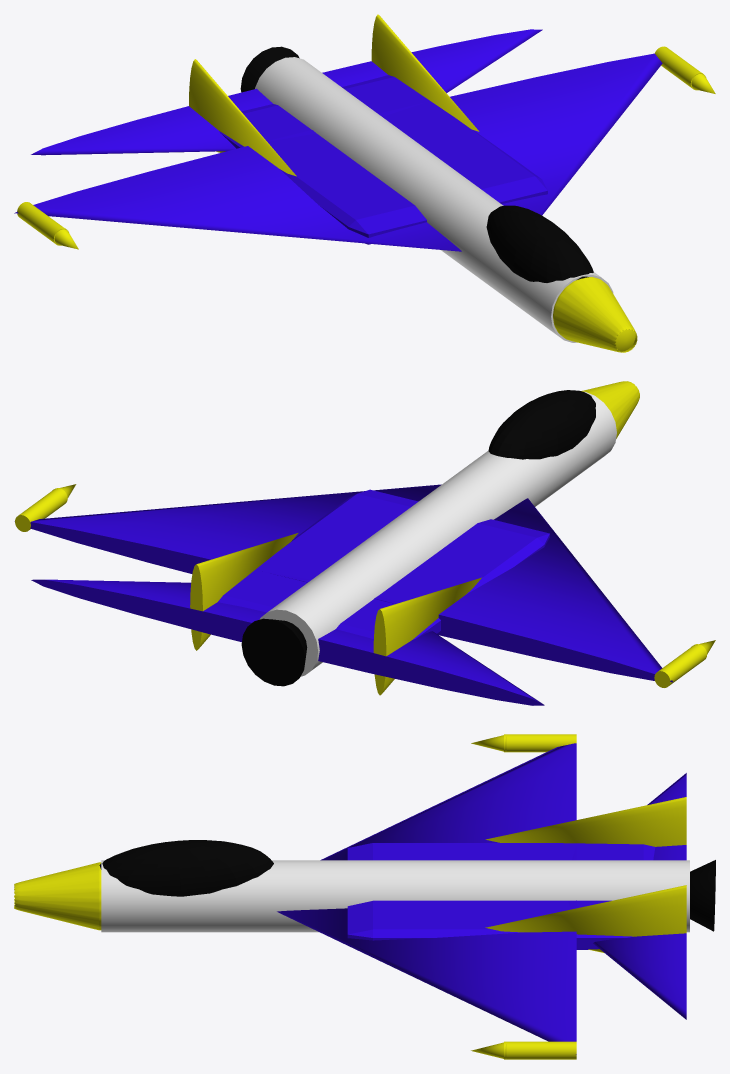
The model's file is SpaceShip.fbx.
3 renders of one model, top to bottom at view 1: azimuth 30°, elevation 25°; view 2: azimuth 150°, elevation 25°; view 3: azimuth 270°, elevation 25°, orthographic.
Visible parts, largest first — view 1: pCone2, pCylinder1, pCube1, pasted__pCone2, pSphere1, pCone1, pasted__pCone3, pCone3, pCone5, pasted__pCylinder2, pCylinder2; view 2: pCone2, pCylinder1, pCube1, pasted__pCone2, pSphere1, pCone5, pasted__pCone3, pCone3, pCone1, pasted__pCylinder2, pCylinder2; view 3: pCone2, pCylinder1, pCube1, pSphere1, pCone3, pasted__pCone2, pasted__pCone3, pCone1, pCone5, pCylinder2, pasted__pCylinder2.
Boxes of the visible parts, x1=… form: pCone2: x1=14, y1=53, x2=662, y2=251; pCylinder1: x1=255, y1=57, x2=613, y2=342; pCube1: x1=219, y1=75, x2=547, y2=244; pasted__pCone2: x1=31, y1=29, x2=542, y2=155; pSphere1: x1=486, y1=205, x2=593, y2=282; pCone1: x1=553, y1=277, x2=637, y2=352; pasted__pCone3: x1=189, y1=59, x2=296, y2=176; pCone3: x1=371, y1=14, x2=479, y2=131; pCone5: x1=240, y1=46, x2=299, y2=92; pasted__pCylinder2: x1=17, y1=202, x2=68, y2=245; pCylinder2: x1=654, y1=46, x2=706, y2=90; pCone2: x1=14, y1=484, x2=673, y2=682; pCylinder1: x1=259, y1=391, x2=616, y2=676; pCube1: x1=218, y1=489, x2=549, y2=639; pasted__pCone2: x1=31, y1=579, x2=544, y2=705; pSphere1: x1=488, y1=390, x2=595, y2=459; pCone5: x1=241, y1=618, x2=307, y2=686; pasted__pCone3: x1=373, y1=577, x2=481, y2=695; pCone3: x1=190, y1=533, x2=298, y2=650; pCone1: x1=581, y1=381, x2=639, y2=438; pasted__pCylinder2: x1=654, y1=644, x2=707, y2=687; pCylinder2: x1=15, y1=488, x2=67, y2=531; pCone2: x1=277, y1=743, x2=576, y2=1054; pCylinder1: x1=101, y1=860, x2=689, y2=932; pCube1: x1=347, y1=843, x2=655, y2=949; pSphere1: x1=99, y1=840, x2=273, y2=896; pCone3: x1=485, y1=885, x2=686, y2=952; pasted__pCone2: x1=593, y1=773, x2=686, y2=1019; pasted__pCone3: x1=485, y1=797, x2=686, y2=846; pCone1: x1=14, y1=862, x2=101, y2=930; pCone5: x1=690, y1=860, x2=715, y2=931; pCylinder2: x1=504, y1=1041, x2=576, y2=1059; pasted__pCylinder2: x1=504, y1=734, x2=576, y2=752.
Size of the model in its own units: 20.65 by 2.68 by 19.32.
